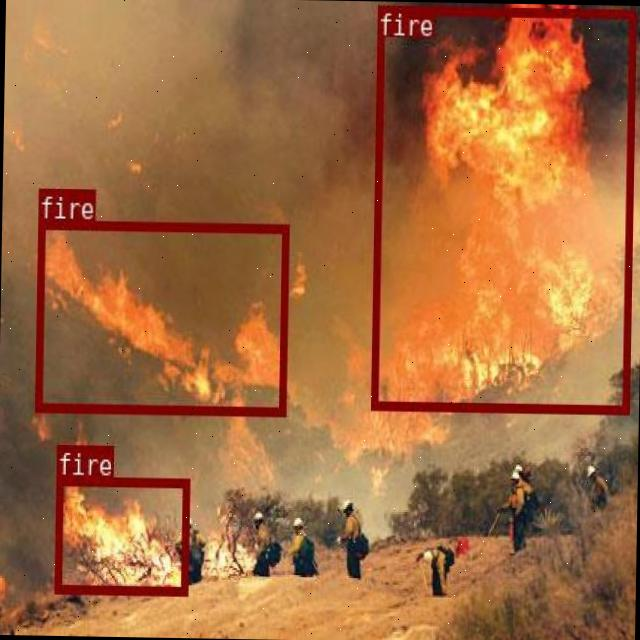fire: (370, 3, 634, 412), (35, 218, 288, 413), (53, 474, 187, 594)
